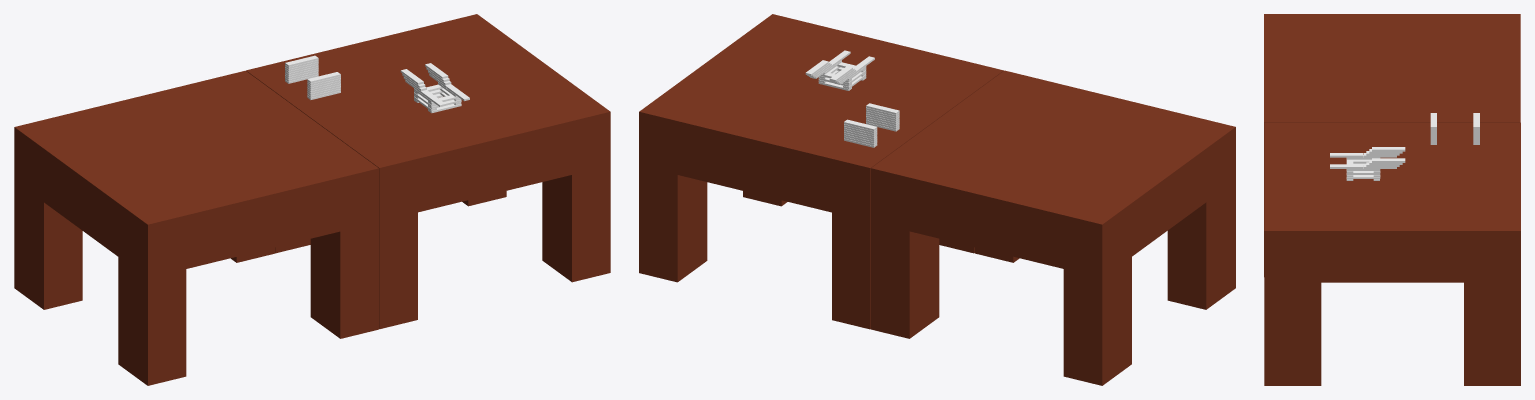
Rendered from cantilever_half.dae.
The picture shows the model from 3 angles, left to right: view 1: azimuth 30°, elevation 25°; view 2: azimuth 150°, elevation 25°; view 3: azimuth 270°, elevation 25°; orthographic projection. The views are drawn at different scales.
Parts seen in each view (by area): view 1: base (×7); view 2: base (×7); view 3: base (×4).
Boxes of the visible parts, x1,y1,x2,y2 form: base (×7): (14,14,610,385); base (×7): (639,14,1235,385); base (×4): (1264,14,1520,385).
Bounding box in the file's own units: 1.8 × 0.9009 × 0.6777.
